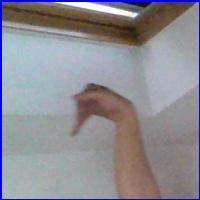del: (69, 79, 132, 143)
